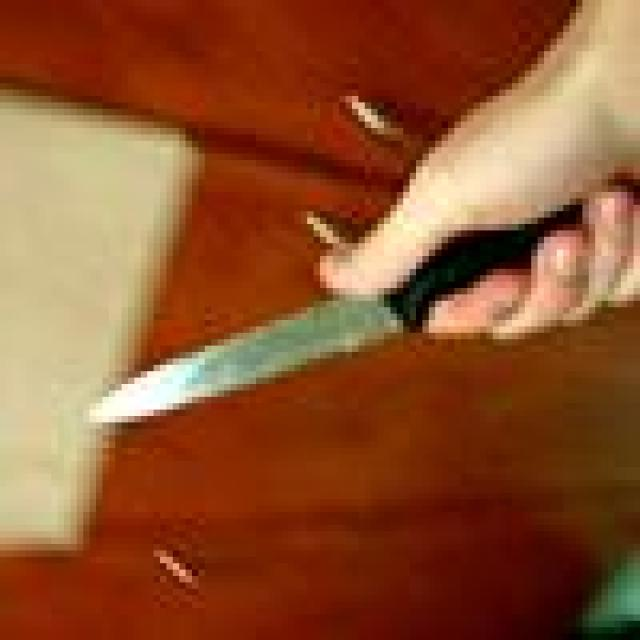knife: (75, 302, 400, 416)
